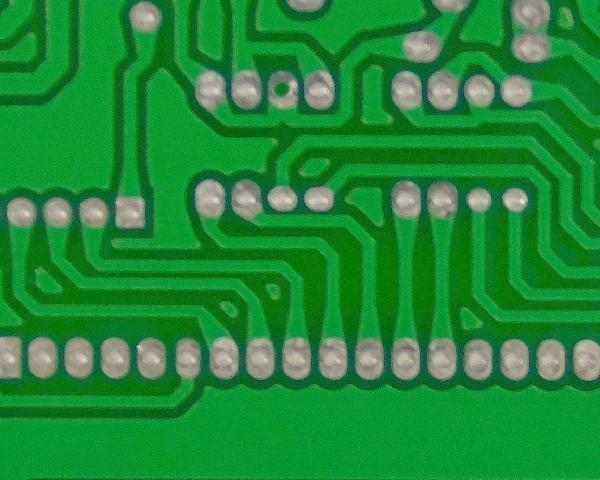missing hole: (264, 63, 301, 111)
